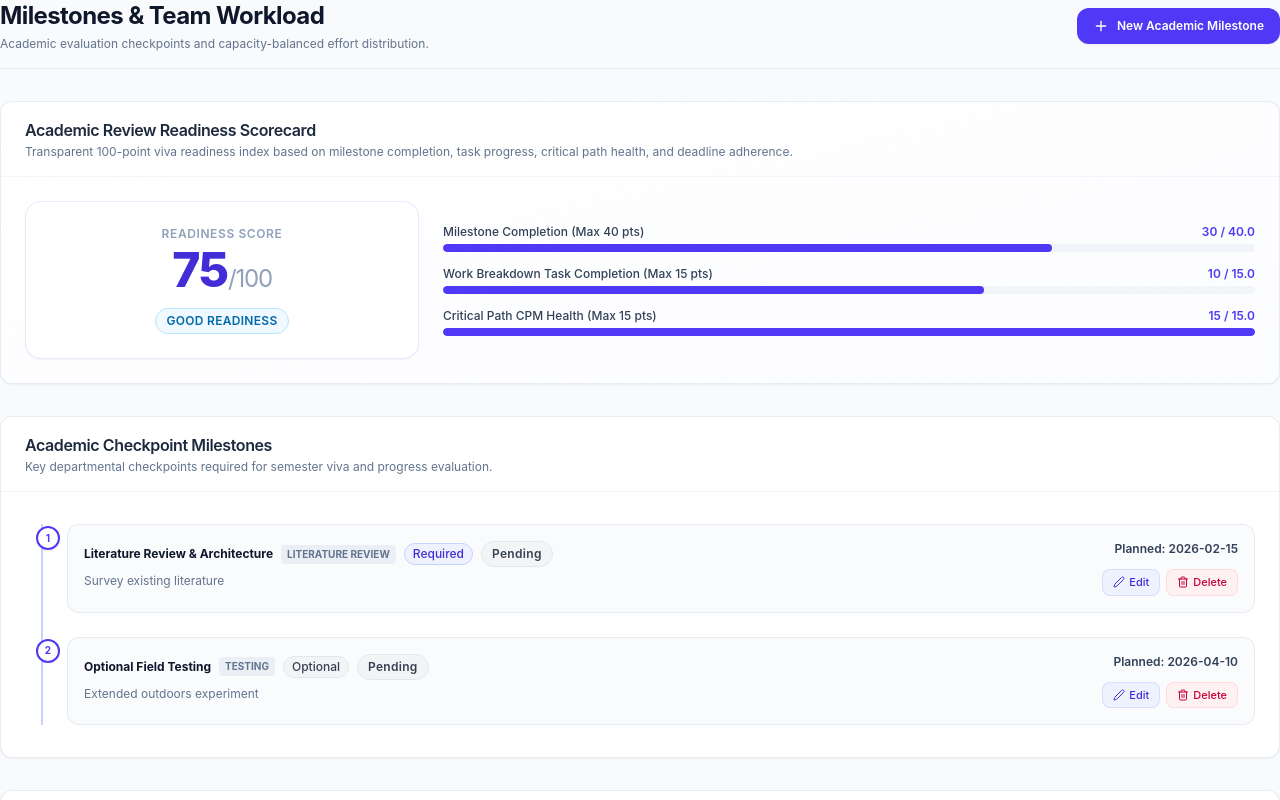
General Edit and Delete Frontend Functionality › MilestonesWorkloadPage Edit/Delete › opens prefilled edit modal and submits milestone update
Later steps or results of the test are not shown.
Expected: the text "Literature Review & Architecture" is shown, top-left (84, 546), bottom-right (273, 562)
Click the button "Edit" below "2026-02-15" at (1131, 582), box top-left (1102, 569), bottom-right (1160, 596)
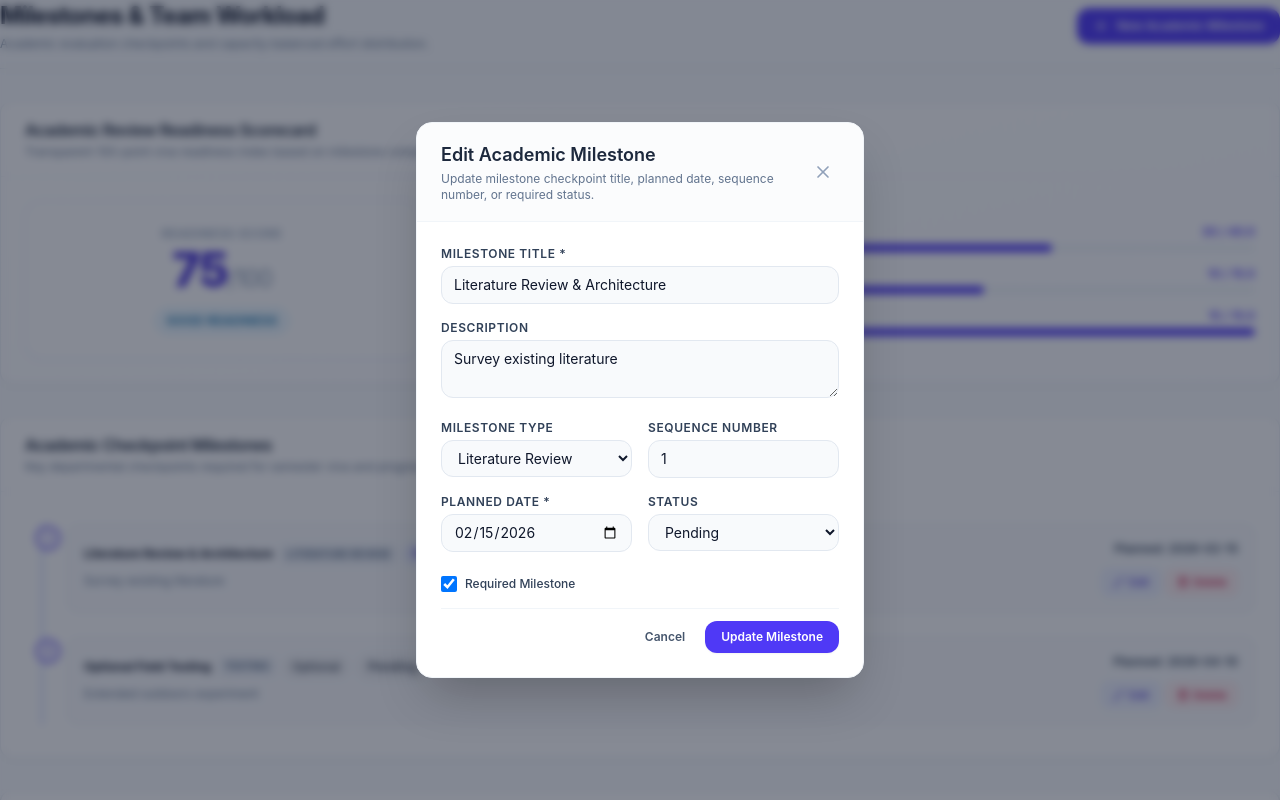
Result: the heading "Edit Academic Milestone" is shown at top-left (441, 144), bottom-right (656, 165)
